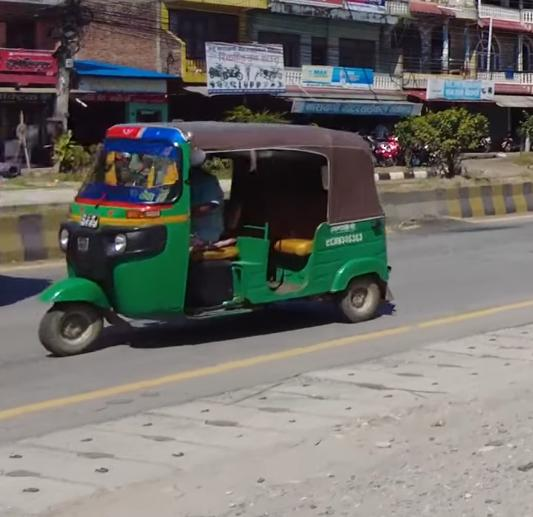auto_rickshaw: (32, 112, 396, 362)
